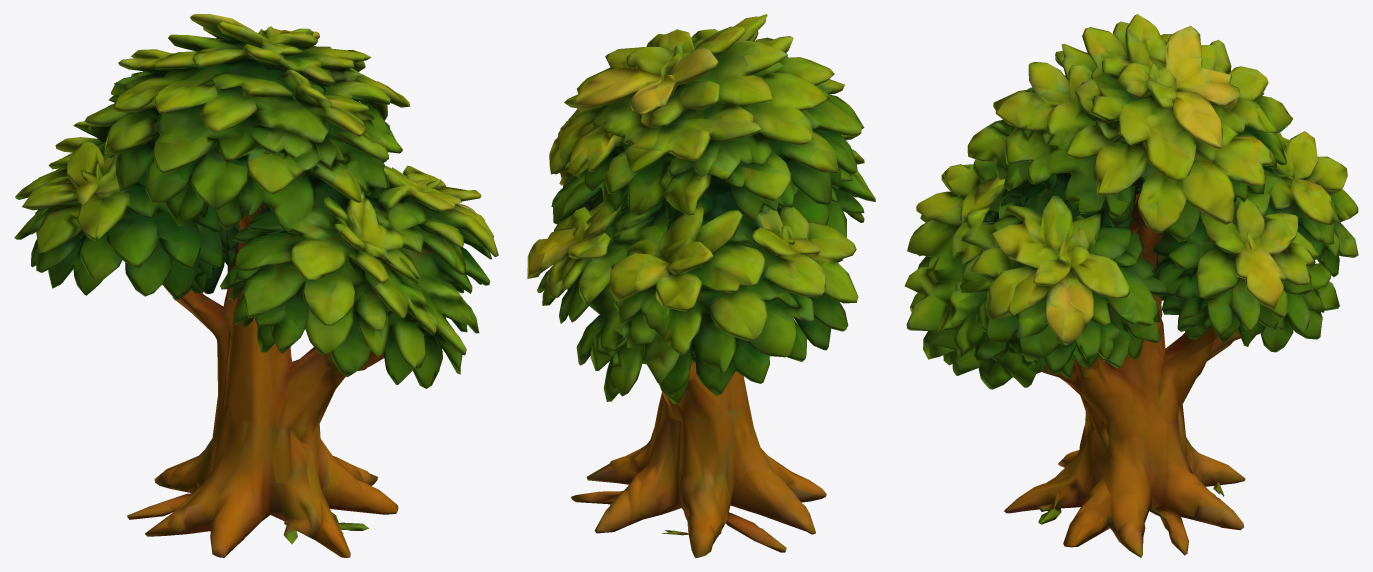
Rendered from tr01-sunleaf-tree.glb.
3 renders of one model, left to right at view 1: azimuth 30°, elevation 25°; view 2: azimuth 150°, elevation 25°; view 3: azimuth 270°, elevation 25°, orthographic. The views are drawn at different scales.
Visible parts, largest first — view 1: tripo_node_4b83dad6-989e-43da-9634-80d5ad4c6118; view 2: tripo_node_4b83dad6-989e-43da-9634-80d5ad4c6118; view 3: tripo_node_4b83dad6-989e-43da-9634-80d5ad4c6118.
Boxes of the visible parts, <box> form: tripo_node_4b83dad6-989e-43da-9634-80d5ad4c6118: <box>14,14,498,557</box>; tripo_node_4b83dad6-989e-43da-9634-80d5ad4c6118: <box>527,14,875,557</box>; tripo_node_4b83dad6-989e-43da-9634-80d5ad4c6118: <box>904,14,1358,557</box>.
Bounding box in the file's own units: 0.774 × 1 × 0.8683.
1 material, 1 textured.
